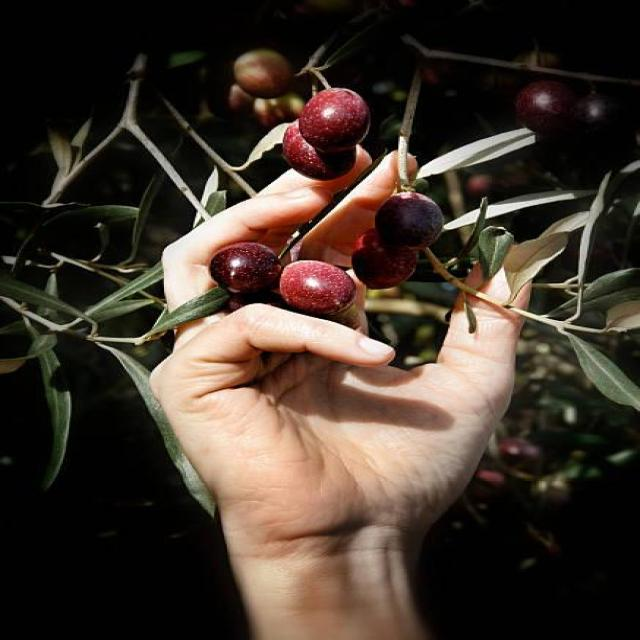Healthy: (562, 330, 639, 411), (300, 88, 369, 154), (211, 242, 280, 304), (280, 260, 354, 317), (283, 124, 354, 180), (351, 228, 413, 289), (375, 192, 442, 247), (516, 79, 576, 138), (234, 49, 294, 98)
